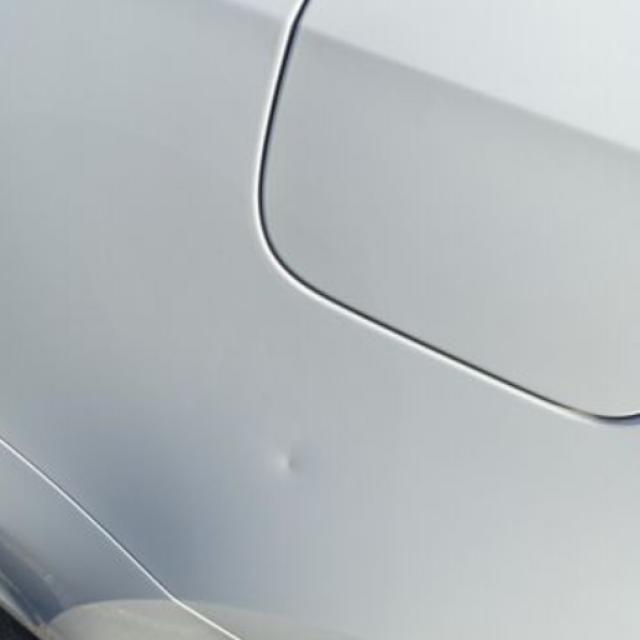dents: (229, 416, 361, 506)
